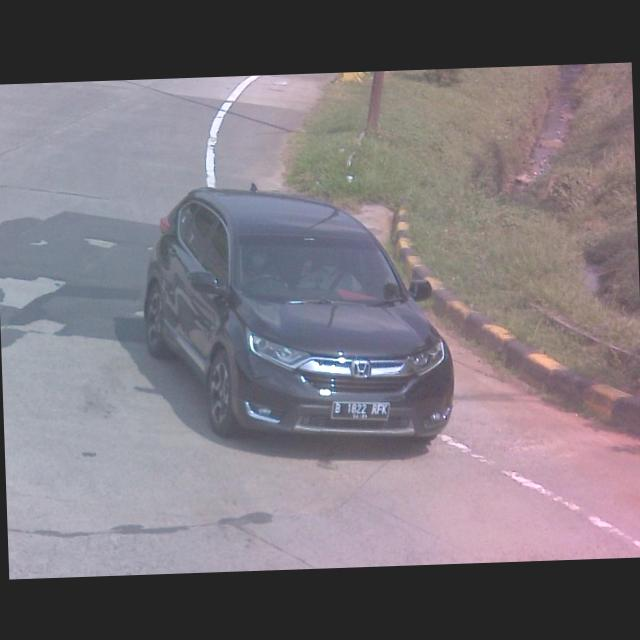plate: (330, 395, 392, 424)
